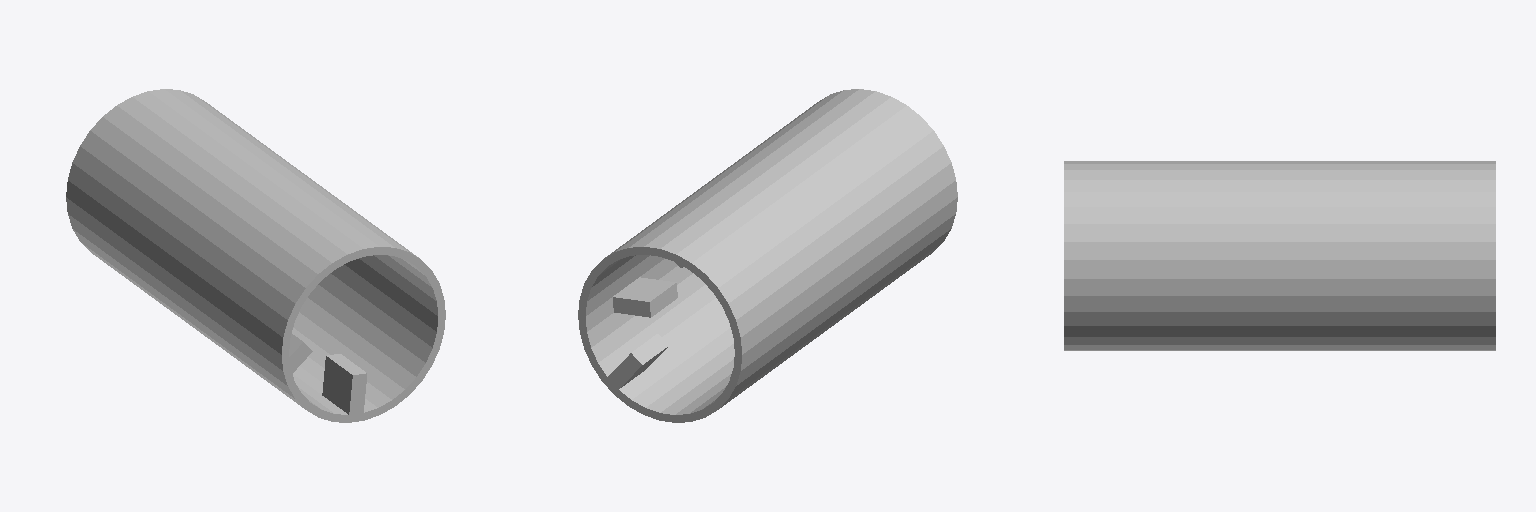
The model's file is Tumbler.obj.
3 views of the same model, side by side, from view 1: azimuth 30°, elevation 25°; view 2: azimuth 150°, elevation 25°; view 3: azimuth 270°, elevation 25° (orthographic).
Parts seen in each view (by area): view 1: Cylinder; view 2: Cylinder; view 3: Cylinder.
Boxes of the visible parts, x1=… form: Cylinder: x1=66, y1=89, x2=445, y2=422; Cylinder: x1=578, y1=89, x2=957, y2=422; Cylinder: x1=1064, y1=161, x2=1495, y2=350.
Size of the model in its own units: 22 by 22 by 50.